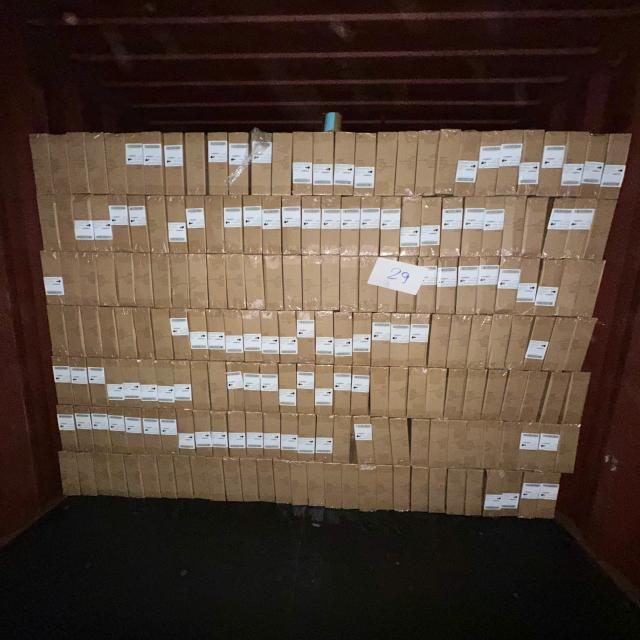Carton: (535, 130, 570, 200), (540, 197, 577, 259), (598, 133, 633, 198), (582, 198, 618, 260), (561, 198, 597, 259), (558, 131, 590, 197), (579, 132, 610, 198), (494, 130, 524, 198), (552, 259, 587, 316), (571, 261, 606, 318), (517, 130, 547, 196), (534, 258, 566, 319), (541, 318, 576, 371), (475, 133, 503, 199), (28, 132, 56, 195), (562, 320, 596, 370), (455, 131, 480, 198), (524, 318, 554, 373), (125, 194, 152, 253), (540, 373, 570, 426), (47, 134, 73, 195), (437, 130, 461, 196), (523, 197, 549, 257), (65, 131, 89, 196), (562, 372, 591, 425), (354, 134, 377, 200), (416, 132, 439, 198), (520, 372, 548, 426), (495, 258, 521, 316), (516, 258, 542, 316), (229, 133, 252, 197), (251, 134, 274, 198), (502, 196, 526, 257), (395, 132, 417, 198), (164, 135, 187, 198), (272, 133, 294, 198), (40, 251, 66, 306), (86, 134, 109, 196), (483, 196, 506, 258), (105, 133, 128, 195), (37, 194, 62, 251), (376, 134, 398, 198), (508, 318, 534, 372), (535, 424, 563, 474), (477, 258, 501, 316), (54, 194, 78, 252), (207, 134, 229, 197), (185, 133, 207, 196), (461, 199, 484, 259), (466, 316, 491, 371), (96, 251, 120, 308), (335, 133, 356, 198), (316, 132, 337, 197), (292, 133, 313, 198), (456, 258, 479, 317), (71, 195, 94, 254), (143, 134, 164, 198), (125, 131, 146, 195), (442, 197, 464, 257), (380, 199, 402, 259), (167, 195, 189, 255), (437, 259, 460, 316), (517, 424, 543, 474), (556, 426, 582, 476), (110, 194, 132, 253), (448, 315, 472, 369), (488, 315, 512, 369), (113, 252, 136, 308), (191, 456, 219, 502), (378, 256, 400, 314), (502, 369, 526, 422), (359, 196, 380, 256), (341, 198, 362, 258), (320, 196, 341, 256), (421, 199, 442, 259), (402, 197, 423, 257), (188, 195, 209, 255), (89, 194, 110, 254), (186, 253, 208, 310), (416, 259, 438, 316), (78, 251, 100, 308), (518, 471, 543, 521), (57, 449, 83, 497), (47, 307, 71, 359), (132, 252, 154, 308), (82, 306, 105, 359), (147, 196, 168, 254), (302, 198, 322, 258), (244, 197, 264, 257), (282, 196, 302, 256), (264, 197, 284, 257), (484, 371, 508, 421), (150, 253, 171, 310), (169, 253, 190, 310), (428, 316, 450, 370), (340, 257, 361, 313), (61, 250, 82, 306), (535, 473, 561, 518), (154, 309, 176, 362), (223, 196, 243, 254), (358, 256, 378, 314), (320, 257, 341, 312), (245, 256, 266, 311), (88, 358, 111, 408), (56, 406, 81, 452), (206, 194, 225, 254), (398, 259, 419, 313), (72, 405, 96, 452), (446, 370, 468, 421), (64, 306, 86, 357), (282, 256, 302, 312), (303, 256, 323, 312), (265, 256, 285, 312), (228, 255, 248, 310), (425, 370, 447, 420), (410, 315, 430, 370), (318, 313, 338, 368), (208, 255, 228, 310), (353, 418, 375, 468), (70, 358, 92, 408), (464, 370, 486, 420), (53, 358, 75, 408), (408, 366, 429, 418), (500, 470, 523, 517), (352, 314, 372, 368), (390, 315, 410, 369), (373, 314, 393, 368), (74, 452, 98, 497), (483, 470, 505, 519), (481, 421, 503, 470), (262, 311, 282, 364), (317, 362, 337, 415), (118, 308, 138, 361), (243, 310, 263, 363), (100, 307, 120, 360), (91, 406, 114, 452), (124, 452, 147, 498), (107, 406, 129, 454), (373, 418, 394, 468), (190, 361, 211, 411), (428, 420, 449, 470), (188, 309, 208, 361), (351, 364, 371, 416), (135, 309, 155, 361), (172, 310, 192, 362), (139, 453, 162, 498), (125, 407, 147, 454), (448, 419, 469, 468), (371, 367, 391, 418), (389, 368, 409, 419), (209, 362, 229, 413), (262, 363, 282, 414), (158, 453, 180, 499), (390, 419, 411, 467), (447, 469, 468, 517), (464, 420, 485, 468), (296, 314, 315, 367), (411, 420, 431, 470), (174, 360, 194, 410), (158, 360, 178, 410), (107, 357, 127, 407), (336, 313, 354, 368), (222, 457, 244, 502), (173, 454, 195, 499), (92, 452, 114, 497), (227, 311, 246, 363), (142, 408, 163, 455), (176, 409, 197, 456), (335, 415, 355, 464), (315, 417, 335, 466), (122, 358, 142, 407), (502, 422, 522, 471), (279, 364, 298, 415), (108, 453, 129, 499), (228, 411, 248, 459), (280, 414, 300, 462), (358, 465, 378, 513), (324, 463, 344, 511), (280, 312, 298, 365), (296, 361, 314, 414), (208, 311, 226, 364), (139, 358, 158, 408), (160, 409, 180, 456), (335, 363, 353, 415), (465, 469, 484, 518), (296, 414, 315, 463), (240, 458, 261, 502), (411, 468, 431, 514), (430, 468, 449, 516), (246, 412, 265, 460), (264, 413, 283, 461), (342, 464, 361, 512), (195, 411, 214, 459), (207, 456, 227, 501), (256, 458, 276, 503), (244, 363, 262, 413), (226, 360, 244, 410), (211, 412, 230, 459), (307, 463, 326, 510), (393, 467, 412, 513), (376, 467, 395, 513), (274, 459, 293, 504), (290, 461, 308, 506)
